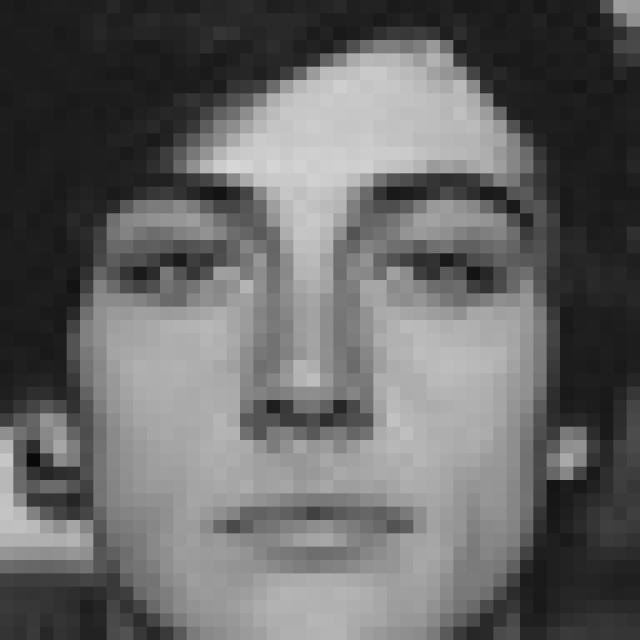neutral: (95, 168, 538, 578)
